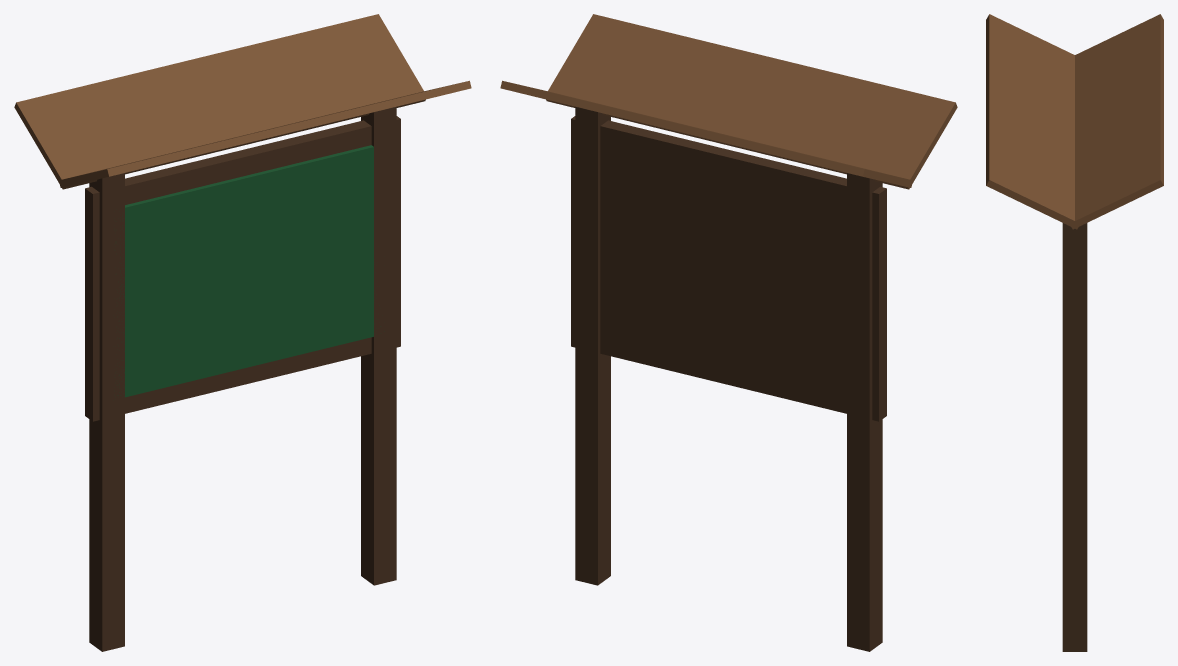
Rendered from prop-info_board.glb.
3 renders of one model, left to right at view 1: azimuth 30°, elevation 25°; view 2: azimuth 150°, elevation 25°; view 3: azimuth 270°, elevation 25°, orthographic. The views are drawn at different scales.
Visible parts, largest first — view 1: info_board; view 2: info_board; view 3: info_board.
Part boxes in pixels (bbox=[...]): info_board: bbox=[14, 14, 471, 651]; info_board: bbox=[500, 14, 957, 651]; info_board: bbox=[986, 14, 1163, 651].
Bounding box in the file's own units: 1.6 × 2.19 × 0.7249.
